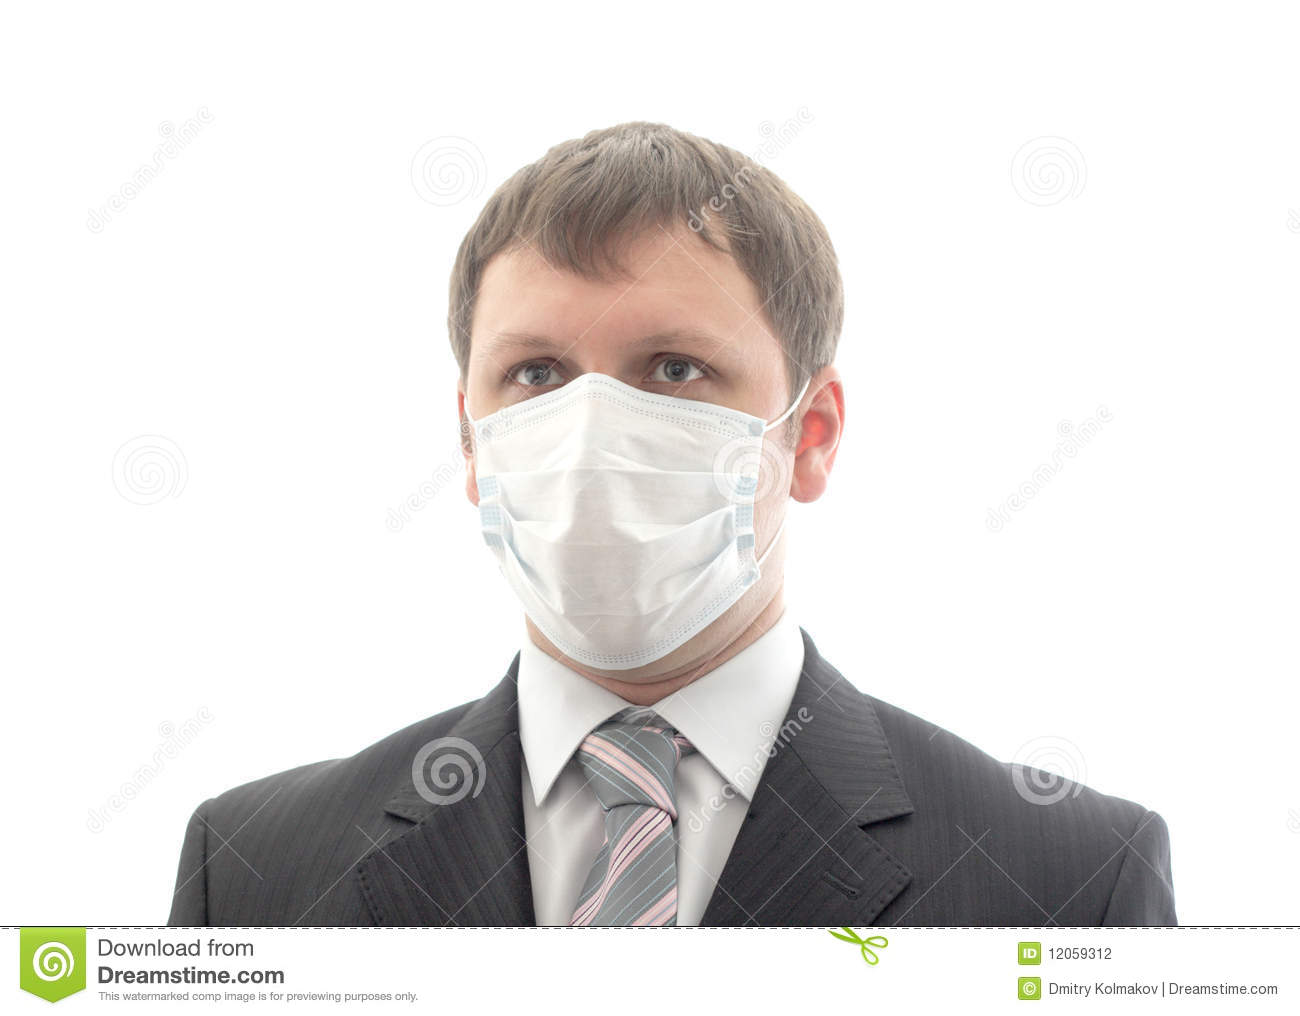mask: (473, 370, 771, 673)
